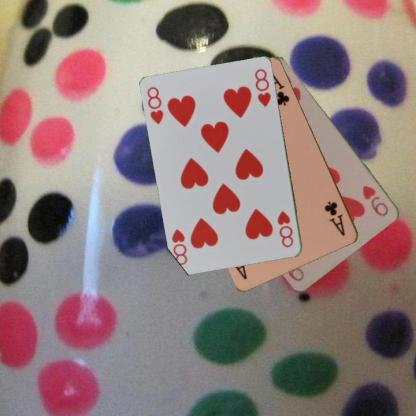8h: (144, 84, 166, 126), (275, 208, 295, 249)
9h: (360, 182, 390, 218)
Ac: (322, 198, 346, 238)
